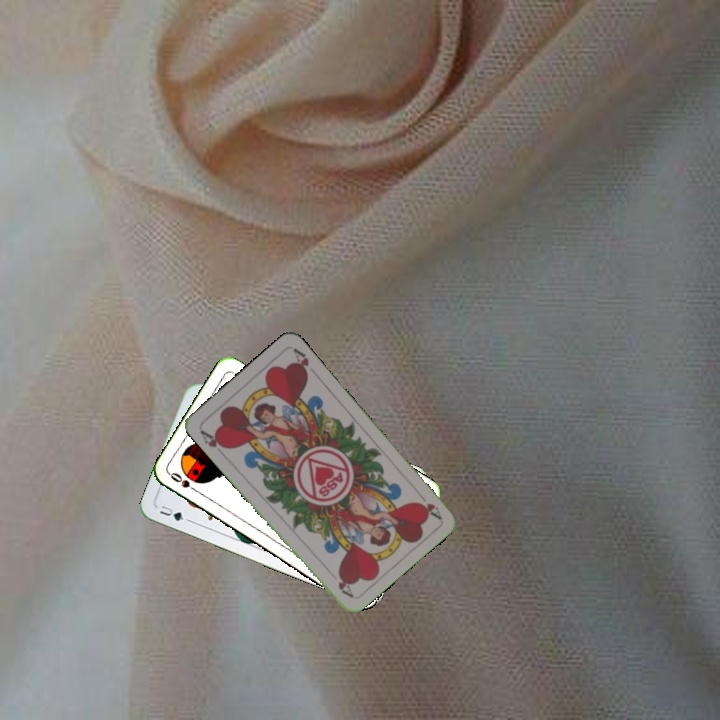GU: (155, 501, 186, 524)
HA: (196, 425, 231, 459), (412, 487, 444, 522)
SO: (166, 468, 202, 496)
